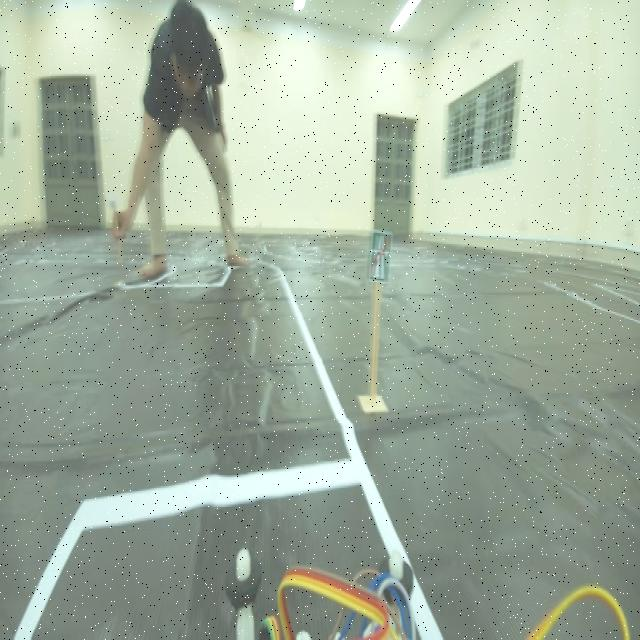highway_exit: (364, 222, 394, 287)
